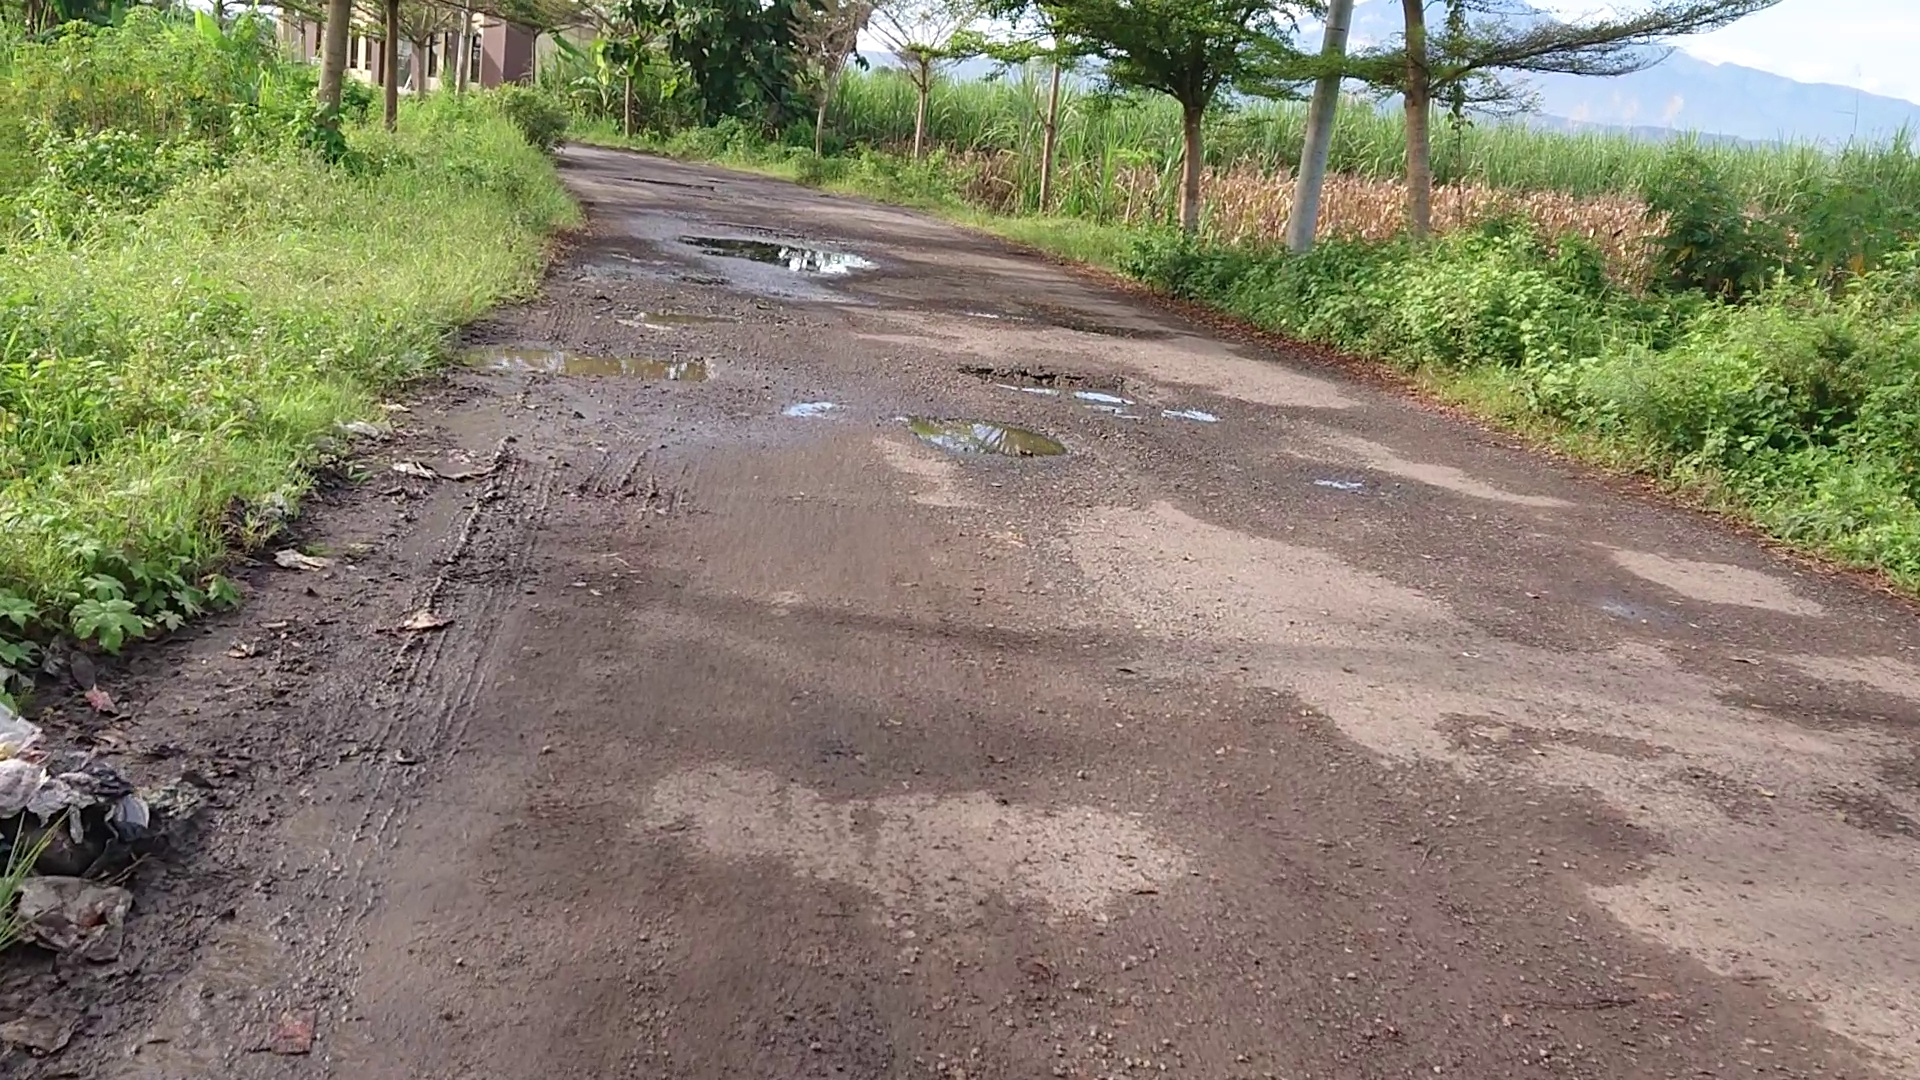Berlubang: (860, 372, 1170, 448), (682, 223, 870, 282), (955, 306, 1149, 343)
